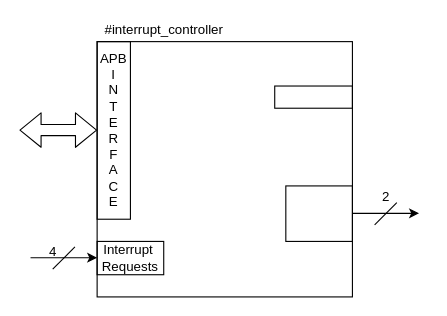
Some shapes in this 447 by 316 pixel diagram are drawn without their labels. Here are the shapes that lost their labels. From the top down, the centre of each, then its label:
At (x=313, y=96): "Interrupt_o".
At (x=318, y=213): "Interrupt Request Address".
